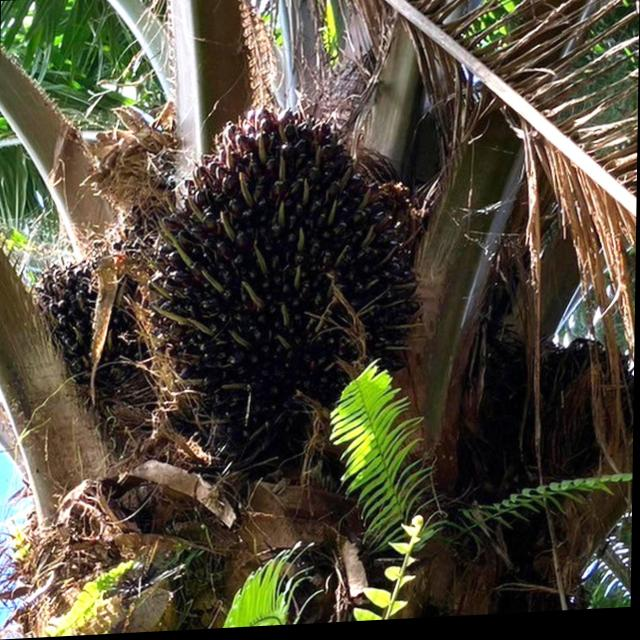ripe: (115, 86, 447, 520)
